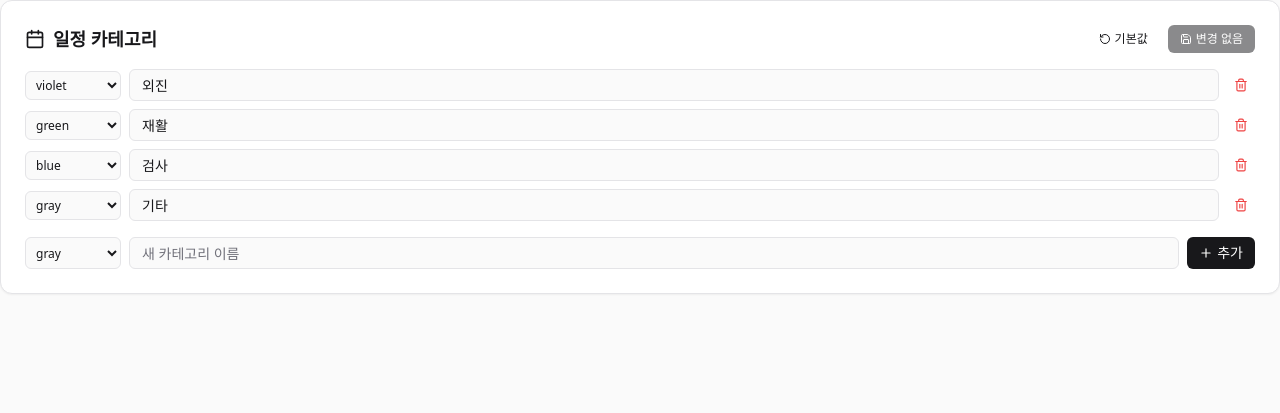
Test: Settings UI behavior › adds and saves schedule categories through the Settings UI
The image size is (1280, 413).
In the field with placeholder "새 카테고리 이름": (654, 253) [129,237,1179,269], type "  MRI   follow  up  "
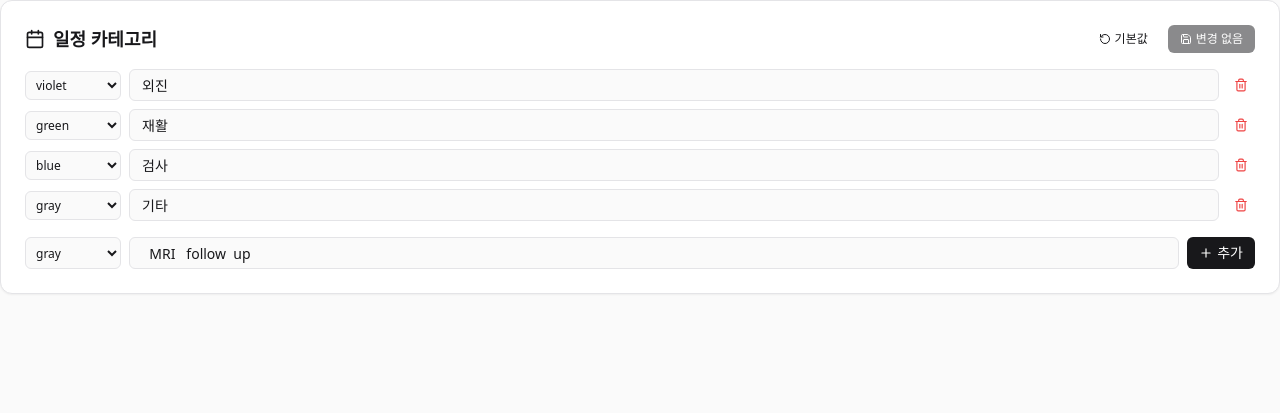
Click the button "추가": click(1221, 253) [1187,237,1255,269]
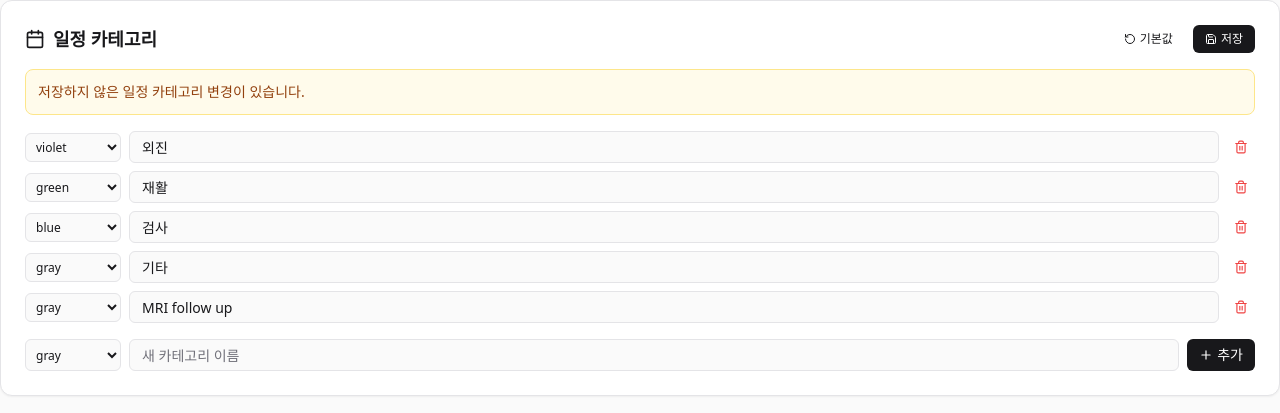
Expected: the text "저장하지 않은 일정 카테고리 변경이 있습니다." is shown, [25,69,1255,115]
Expected: the field showing "MRI follow up" is shown, [129,291,1219,323]
Click the button "저장": click(1224, 39) [1193,25,1255,53]
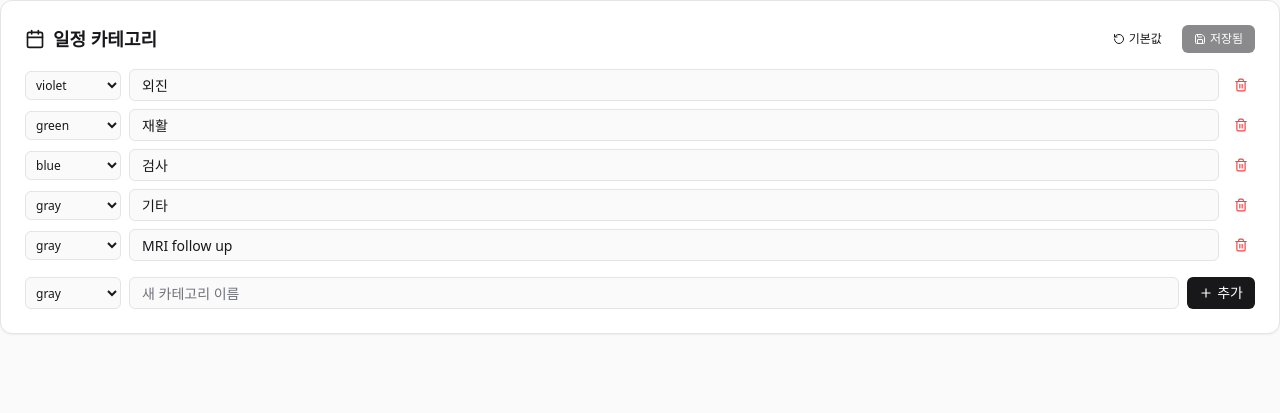
Expected: the button "저장됨" is shown, [1182,25,1255,53]
